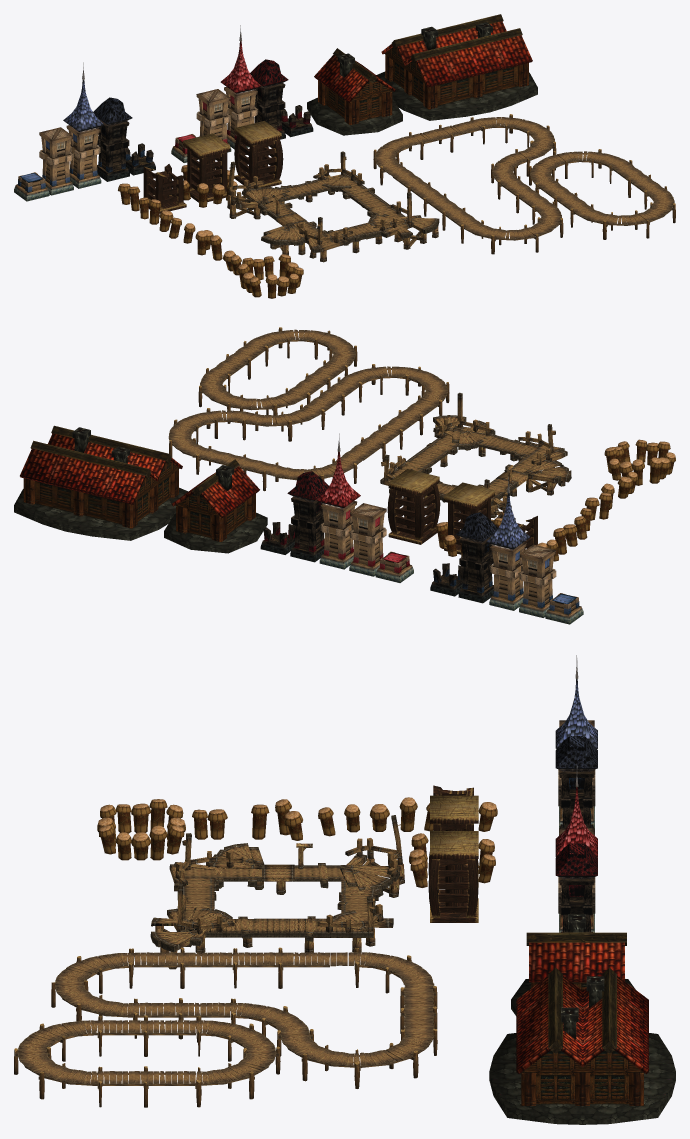
Rendered from Collection wooden_V02.FBX.
The picture shows the model from 3 angles, top to bottom: view 1: azimuth 30°, elevation 25°; view 2: azimuth 150°, elevation 25°; view 3: azimuth 270°, elevation 25°; orthographic projection. The views are drawn at different scales.
Visible parts, largest first — view 1: Object001, Wood_Street_Cylinder_set_004, wood_Street_Cylinder002, Wood_buil_001, wood_Street_Cylinder, Wooden_tower001, new_blueTower001, wood01, blueTower04, Wooden_tower, new_redTower, wood02 (+8 smaller); view 2: Object001, wood_Street_Cylinder002, Wood_Street_Cylinder_set_004, Wood_buil_001, wood_Street_Cylinder, Wooden_tower001, new_redTower, new_blueTower001, blueTower04, redTower03, blueTower02, redTower02 (+8 smaller); view 3: Object001, wood_Street_Cylinder002, Wood_Street_Cylinder_set_004, wood_Street_Cylinder, Wood_buil_001, Wooden_tower001, wood01, wood02, blueTower04, redTower03, Wooden_tower, wood03 (+2 smaller).
Boxes of the visible parts, x1,y1,x2,y2 form: Object001: (376,14,537,120); Wood_Street_Cylinder_set_004: (227,151,439,262); wood_Street_Cylinder002: (373,114,563,254); Wood_buil_001: (307,48,402,135); wood_Street_Cylinder: (528,149,675,239); Wooden_tower001: (234,121,283,187); new_blueTower001: (63,62,103,188); wood01: (118,183,241,275); blueTower04: (93,97,132,181); Wooden_tower: (183,133,230,202); new_redTower: (220,25,260,149); wood02: (237,254,303,298); Object001: (14,425,188,540); wood_Street_Cylinder002: (168,364,449,491); Wood_Street_Cylinder_set_004: (380,392,571,522); Wood_buil_001: (164,459,267,553); wood_Street_Cylinder: (198,327,357,423); Wooden_tower001: (387,469,440,544); new_redTower: (317,433,360,569); new_blueTower001: (486,477,530,610); blueTower04: (455,512,497,603); redTower03: (287,471,328,562); blueTower02: (519,544,556,617); redTower02: (349,503,386,576); Object001: (489,967,675,1124); wood_Street_Cylinder002: (51,947,437,1088); Wood_Street_Cylinder_set_004: (150,815,404,969); wood_Street_Cylinder: (14,1015,280,1107); Wood_buil_001: (511,914,635,1015); Wooden_tower001: (428,831,478,922); wood01: (192,797,497,840); wood02: (97,799,185,860); blueTower04: (555,736,597,835); redTower03: (555,843,597,932); Wooden_tower: (430,795,478,887); wood03: (409,833,495,890).
Size of the model in its own units: 1164 by 269 by 940.
